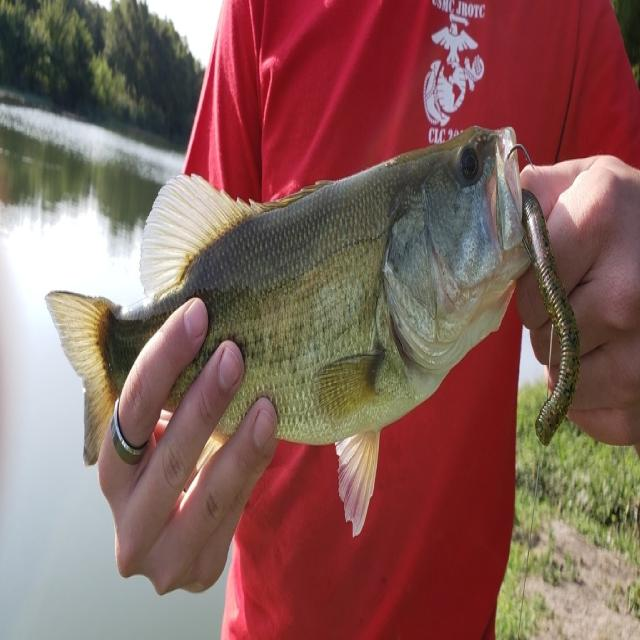Bass - Largemouth: (46, 127, 579, 535)
